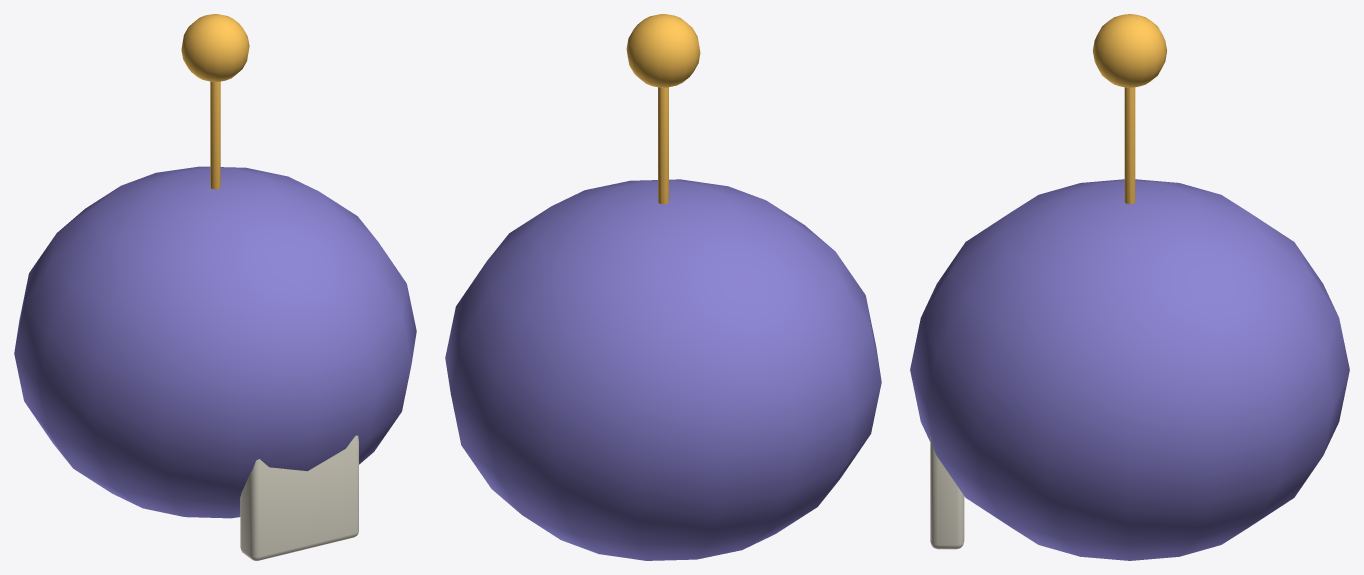
The model's file is space-landmark.glb.
The picture shows the model from 3 angles, left to right: view 1: azimuth 30°, elevation 25°; view 2: azimuth 150°, elevation 25°; view 3: azimuth 270°, elevation 25°; orthographic projection. The views are drawn at different scales.
Parts seen in each view (by area): view 1: observatory dome, entrance, signal, space antenna; view 2: observatory dome, signal, space antenna; view 3: observatory dome, signal, entrance, space antenna.
Boxes of the visible parts, box(x1,y1,x2,y2) form: observatory dome: box(14, 166, 416, 518); entrance: box(240, 435, 358, 560); signal: box(181, 14, 249, 81); space antenna: box(210, 81, 220, 189); observatory dome: box(445, 179, 881, 560); signal: box(626, 14, 700, 87); space antenna: box(658, 87, 668, 204); observatory dome: box(910, 179, 1349, 560); signal: box(1093, 14, 1166, 87); entrance: box(930, 436, 964, 549); space antenna: box(1124, 87, 1135, 203).
Bounding box in the file's own units: 2.6 × 3.4 × 2.6.
